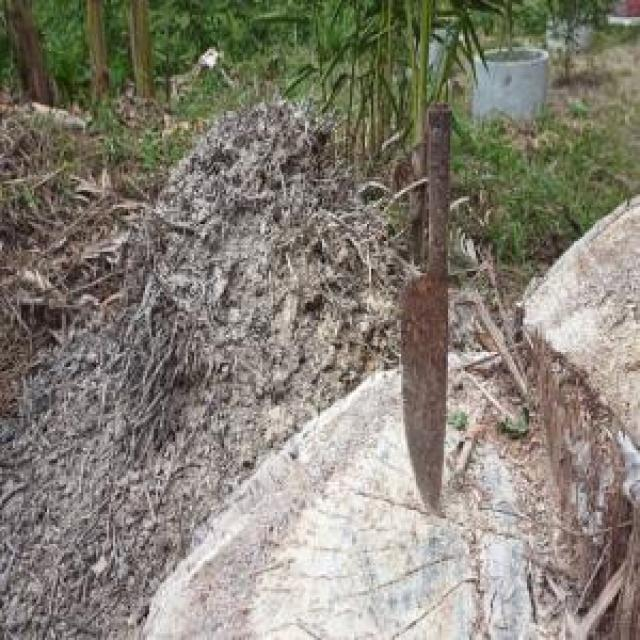knife: (399, 96, 453, 515)
